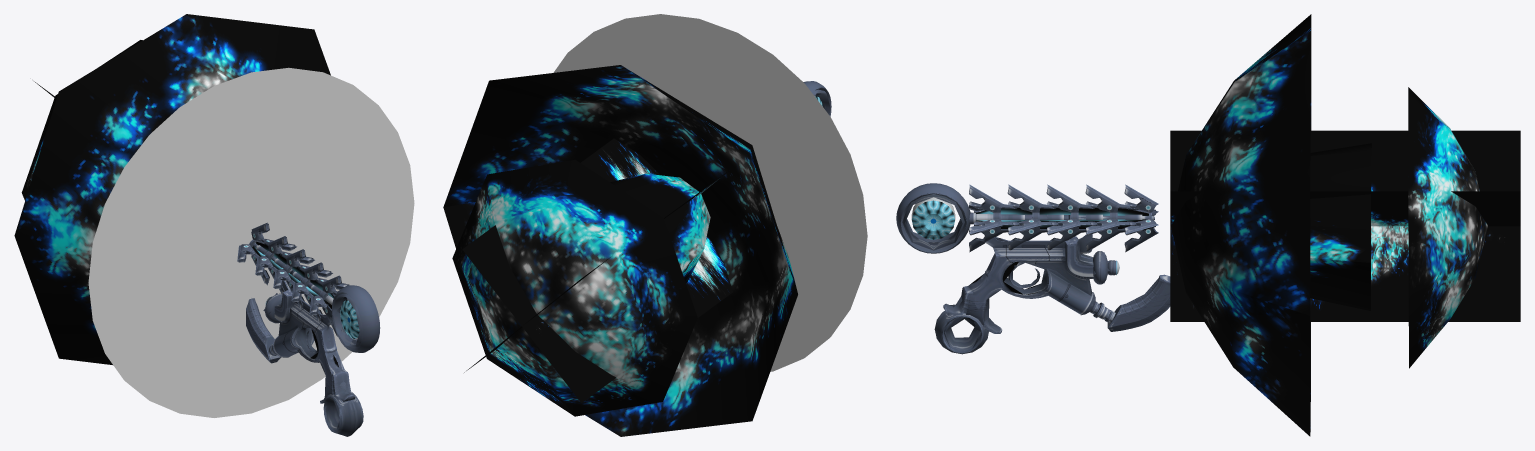
File: Kral_AutodeskFBX2011.fbx
The picture shows the model from 3 angles, left to right: view 1: azimuth 30°, elevation 25°; view 2: azimuth 150°, elevation 25°; view 3: azimuth 270°, elevation 25°; orthographic projection. The views are drawn at different scales.
Visible parts, largest first — view 1: Kraad_MuzzleControl, Kral_MuzzleFlash3_LOD300, Kral_LOD300, Kral_LOD100, Kral_LOD200; view 2: Kral_MuzzleFlash3_LOD300, Kraad_MuzzleControl, Kral_MuzzleFlash1_LOD300; view 3: Kral_MuzzleFlash3_LOD300, Kral_MuzzleFlash1_LOD300, Kral_LOD300, Kral_LOD100, Kral_LOD200.
Part boxes in pixels (x1=…): Kraad_MuzzleControl: x1=88, y1=67, x2=414, y2=417; Kral_MuzzleFlash3_LOD300: x1=14, y1=14, x2=330, y2=364; Kral_LOD300: x1=237, y1=223, x2=380, y2=436; Kral_LOD100: x1=238, y1=223, x2=362, y2=431; Kral_LOD200: x1=238, y1=226, x2=362, y2=394; Kral_MuzzleFlash3_LOD300: x1=443, y1=65, x2=797, y2=436; Kraad_MuzzleControl: x1=553, y1=14, x2=867, y2=371; Kral_MuzzleFlash1_LOD300: x1=462, y1=173, x2=710, y2=402; Kral_MuzzleFlash3_LOD300: x1=1170, y1=14, x2=1487, y2=436; Kral_MuzzleFlash1_LOD300: x1=1170, y1=130, x2=1520, y2=321; Kral_LOD300: x1=896, y1=183, x2=1170, y2=354; Kral_LOD100: x1=902, y1=187, x2=1161, y2=350; Kral_LOD200: x1=900, y1=187, x2=1170, y2=325.
Size of what is drawn, in the model's own units: 25.42 by 25.43 by 37.01.
